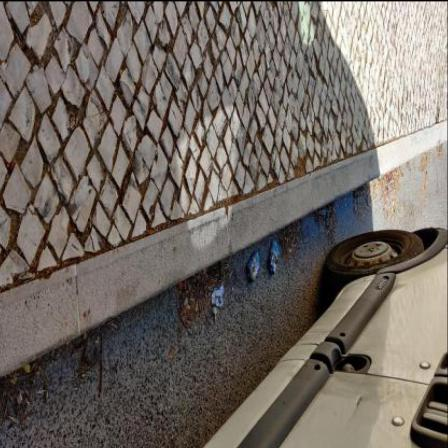Carton: (248, 251, 262, 283), (269, 239, 281, 275)
Cigarette: (197, 299, 201, 310), (188, 303, 192, 309), (288, 176, 292, 180), (192, 298, 196, 302), (424, 184, 426, 190), (288, 237, 289, 245)
Plastic bag - wrapper: (213, 285, 227, 307)
